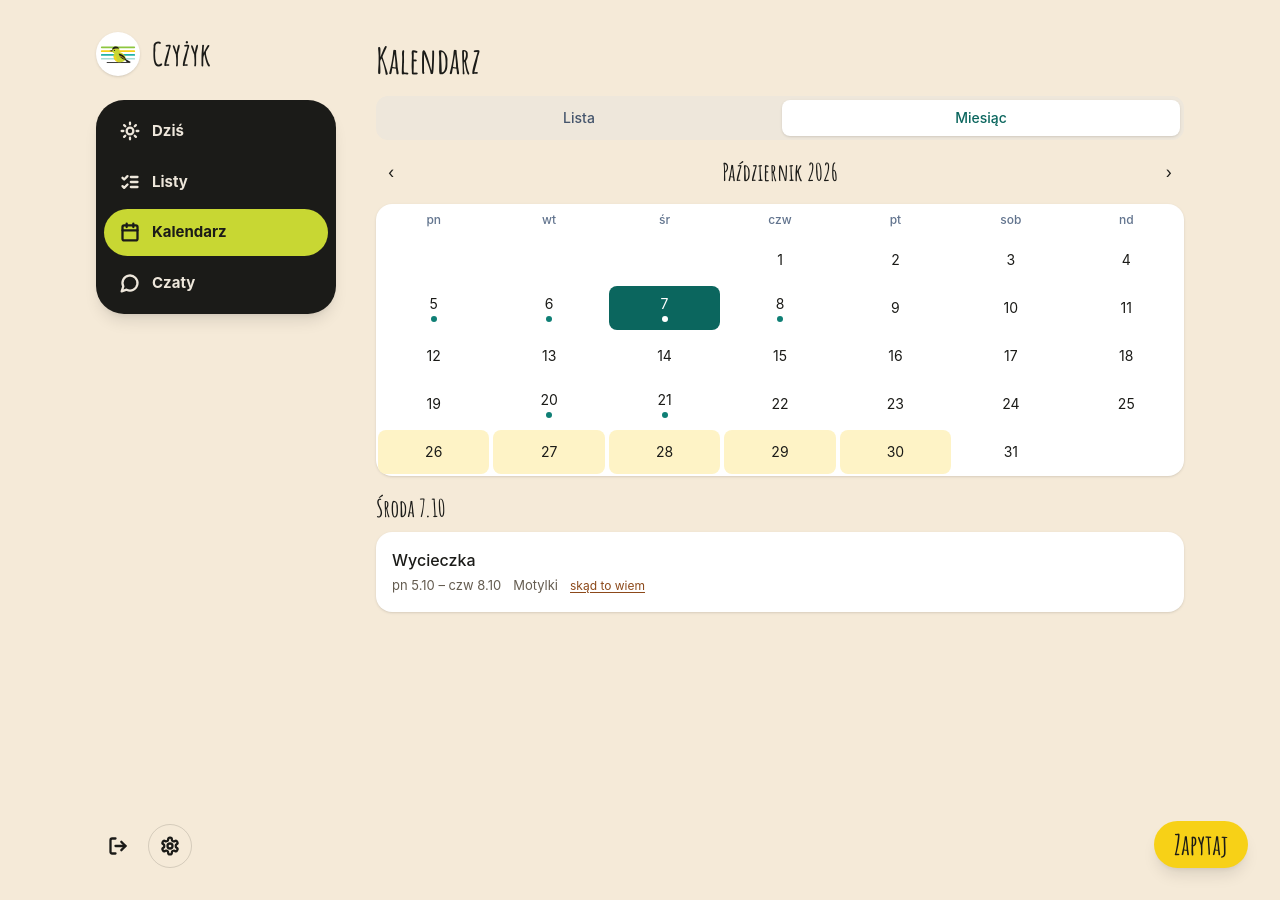
Test: Kalendarz – wpisy kilkudniowe › widok miesiąca oznacza każdy dzień wpisu
Expected: the button named "Czwartek 8.10, 1 wpisy" is shown, [724, 286, 836, 330]
Expected: the button named "Poniedziałek 5.10, 1 wpisy" is shown, [378, 286, 489, 330]
Click the button named "Czwartek 29.10, 1 wpisy".
click(780, 452)  # box [724, 430, 836, 474]
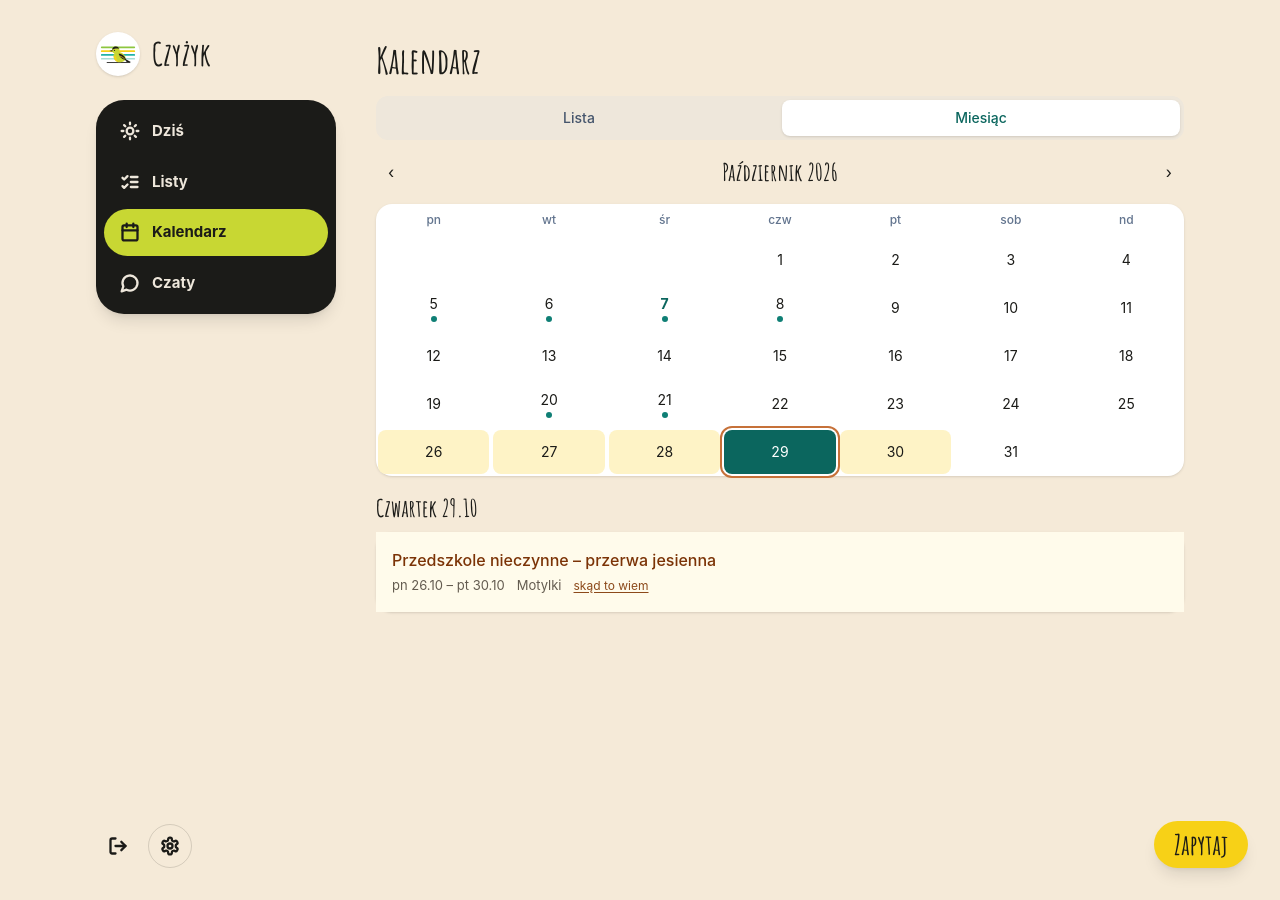
Result: the text "pn 26.10 – pt 30.10" is shown at [392, 576, 505, 596]
